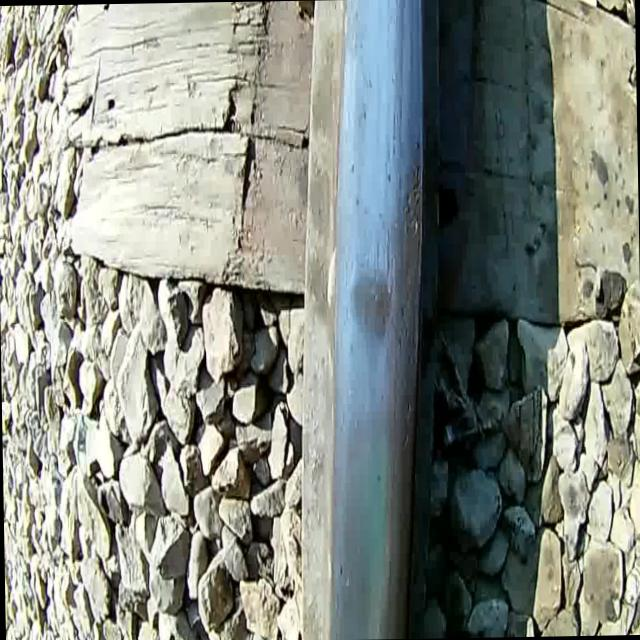Squats: (365, 140, 436, 639), (346, 255, 394, 348)
